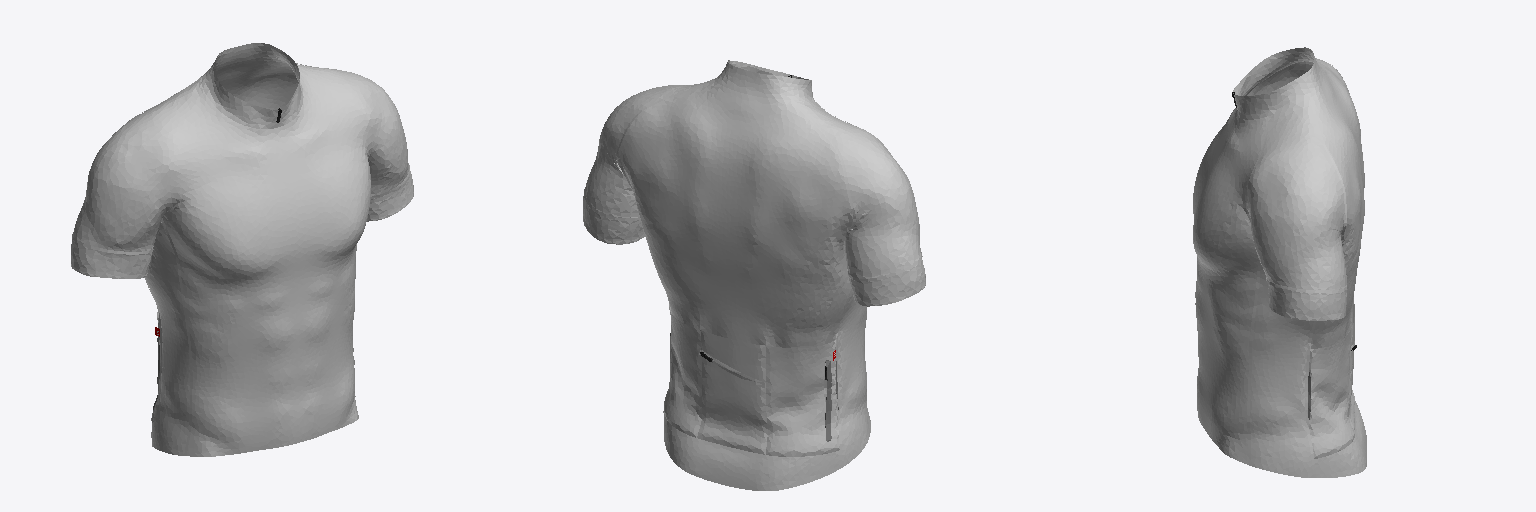
3 renders of one model, left to right at view 1: azimuth 30°, elevation 25°; view 2: azimuth 150°, elevation 25°; view 3: azimuth 270°, elevation 25°, orthographic.
Parts seen in each view (by area): view 1: Dummy001 tour2_15, Dummy001 stitching; view 2: Dummy001 tour2_15, Dummy001 stitching; view 3: Dummy001 tour2_15, Dummy001 stitching.
Part boxes in pixels (x1,y1,x2,y2): Dummy001 tour2_15: (71, 43, 413, 456); Dummy001 stitching: (72, 63, 409, 455); Dummy001 tour2_15: (583, 60, 925, 490); Dummy001 stitching: (584, 80, 922, 469); Dummy001 tour2_15: (1193, 47, 1366, 477); Dummy001 stitching: (1247, 62, 1346, 477).
Size of the model in its own units: 66.33 by 74.71 by 29.88.
8 materials, 1 textured.